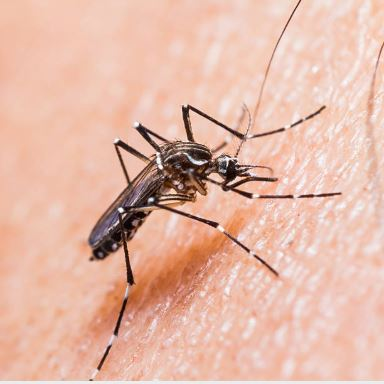dengue_mosquito: (87, 83, 343, 279)
